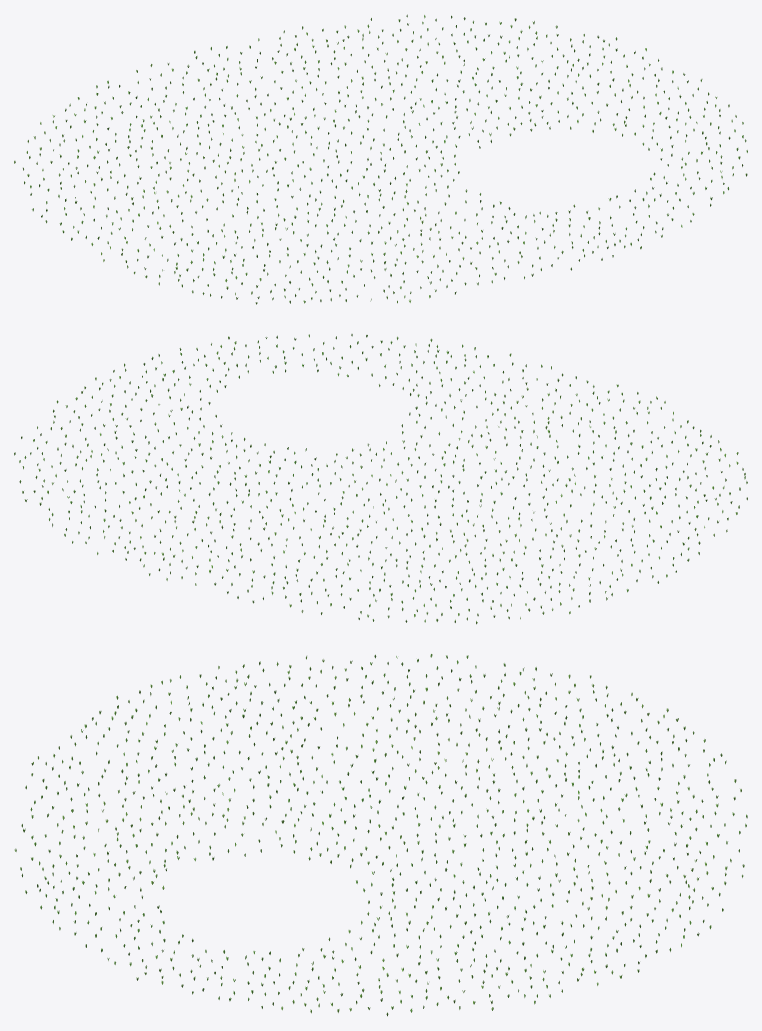
Rendered from grass.glb.
3 views of the same model, one above another, from view 1: azimuth 30°, elevation 25°; view 2: azimuth 150°, elevation 25°; view 3: azimuth 270°, elevation 25° (orthographic). The views are drawn at different scales.
Visible parts, largest first — view 1: grass; view 2: grass; view 3: grass.
Part boxes in pixels (x1,y1,x2,y2): grass: (14,14,747,304); grass: (14,334,747,624); grass: (14,654,747,1016).
Bounding box in the file's own units: 28.23 × 0.16 × 24.33.
